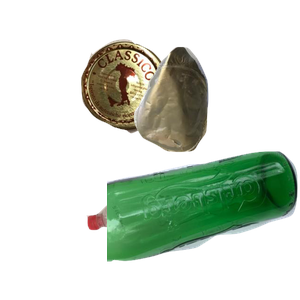glass: (107, 149, 300, 300)
metal: (78, 37, 243, 163)
plastic: (84, 191, 242, 300)
trash: (131, 44, 300, 189)
